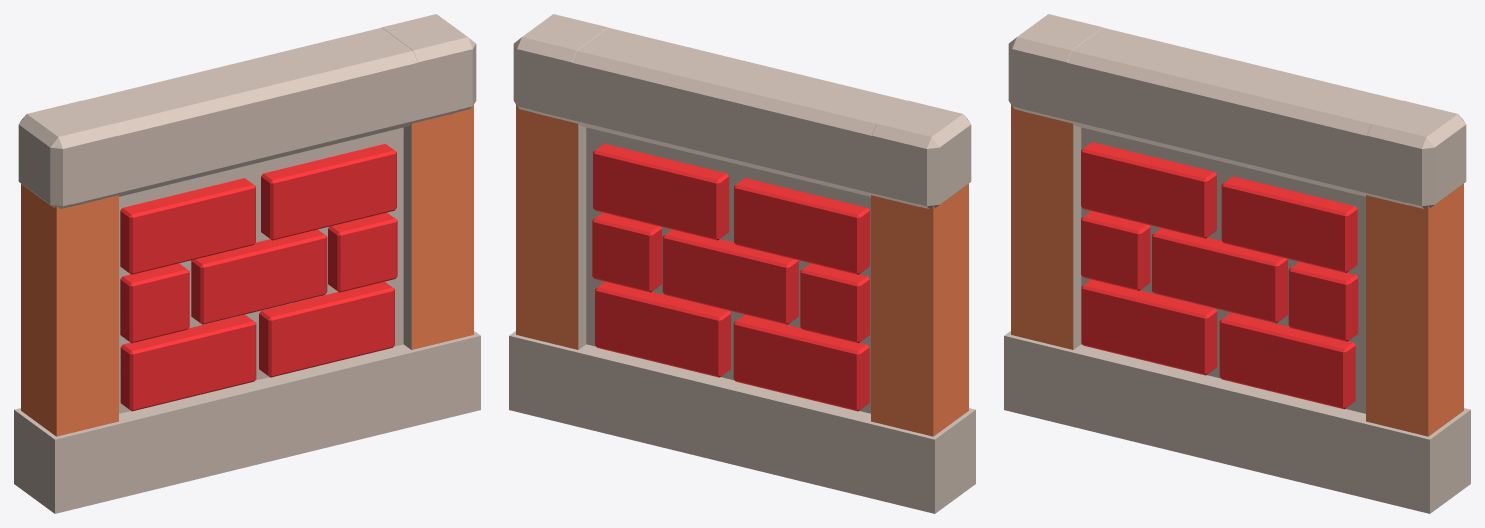
Rendered from gardenwall.fbx.
3 renders of one model, left to right at view 1: azimuth 30°, elevation 25°; view 2: azimuth 150°, elevation 25°; view 3: azimuth 330°, elevation 25°, orthographic.
Visible parts, largest first — view 1: Cube; view 2: Cube; view 3: Cube.
Part boxes in pixels (x1,y1,x2,y2): Cube: (14,14,480,513); Cube: (509,14,975,513); Cube: (1004,14,1470,513).
Bounding box in the file's own units: 600 × 500 × 100.
